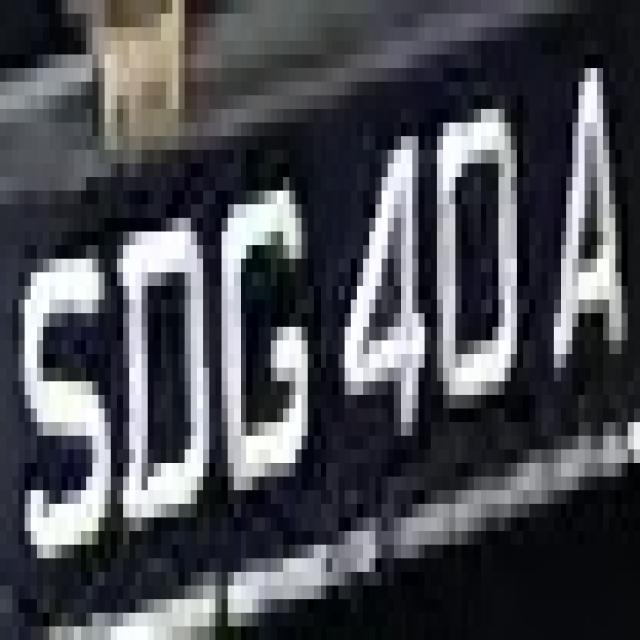0: (412, 41, 530, 463)
4: (332, 82, 431, 436)
A: (529, 14, 634, 463)
D: (111, 164, 215, 558)
G: (215, 177, 320, 531)
S: (6, 204, 111, 599)
